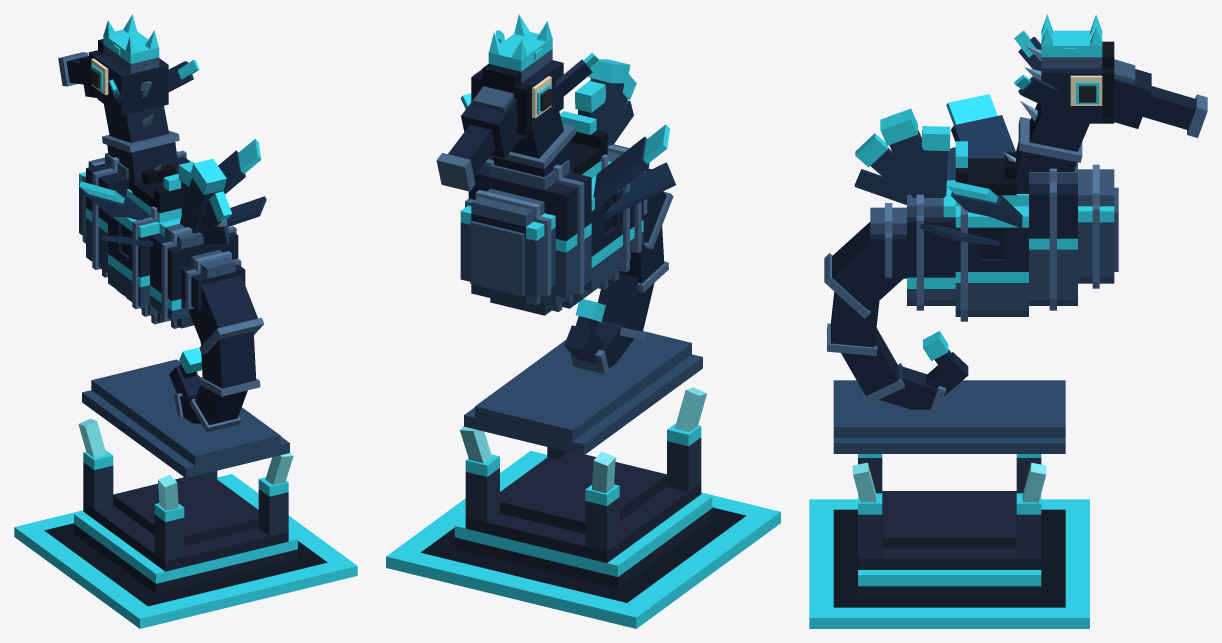
File: SeahorseTrainer10.obj
The picture shows the model from 3 angles, left to right: view 1: azimuth 30°, elevation 25°; view 2: azimuth 150°, elevation 25°; view 3: azimuth 270°, elevation 25°; orthographic projection. The views are drawn at different scales.
Parts seen in each view (by area): view 1: Stand, Body, Plate, Head, Fin, T1, Wings, T2, T3, T5, T6, T4; view 2: Stand, Body, Plate, Head, Wings, Fin, T3, T4, T2, T1, T5, T6; view 3: Stand, Body, Plate, Head, Fin, Wings, T1, T2, T3, T4, T5, T6.
Boxes of the visible parts, x1=… form: Stand: x1=14, y1=418, x2=357, y2=628; Body: x1=79, y1=88, x2=245, y2=328; Plate: x1=82, y1=359, x2=289, y2=478; Head: x1=58, y1=14, x2=199, y2=115; Fin: x1=178, y1=158, x2=232, y2=244; T1: x1=188, y1=276, x2=263, y2=354; Wings: x1=79, y1=139, x2=266, y2=246; T2: x1=199, y1=331, x2=260, y2=396; T3: x1=189, y1=385, x2=247, y2=432; T5: x1=169, y1=366, x2=200, y2=396; T6: x1=179, y1=348, x2=201, y2=378; T4: x1=174, y1=393, x2=200, y2=423; Stand: x1=386, y1=387, x2=780, y2=628; Body: x1=460, y1=111, x2=651, y2=315; Plate: x1=464, y1=331, x2=702, y2=455; Head: x1=436, y1=14, x2=598, y2=191; Wings: x1=460, y1=93, x2=675, y2=219; Fin: x1=575, y1=59, x2=636, y2=146; T3: x1=598, y1=273, x2=654, y2=340; T4: x1=570, y1=319, x2=634, y2=374; T2: x1=619, y1=226, x2=668, y2=292; T1: x1=643, y1=191, x2=673, y2=249; T5: x1=564, y1=325, x2=604, y2=363; T6: x1=575, y1=299, x2=605, y2=332; Stand: x1=809, y1=454, x2=1089, y2=628; Body: x1=870, y1=76, x2=1118, y2=321; Plate: x1=833, y1=380, x2=1065, y2=453; Head: x1=1014, y1=14, x2=1207, y2=137; Fin: x1=854, y1=108, x2=950, y2=204; Wings: x1=920, y1=94, x2=1022, y2=245; T1: x1=824, y1=222, x2=906, y2=318; T2: x1=827, y1=292, x2=879, y2=355; T3: x1=841, y1=328, x2=904, y2=404; T4: x1=879, y1=365, x2=945, y2=410; T5: x1=926, y1=352, x2=968, y2=396; T6: x1=923, y1=331, x2=952, y2=369.
Bounding box in the file's own units: 9.2 × 19.84 × 13.06.
1 material, 1 textured.
